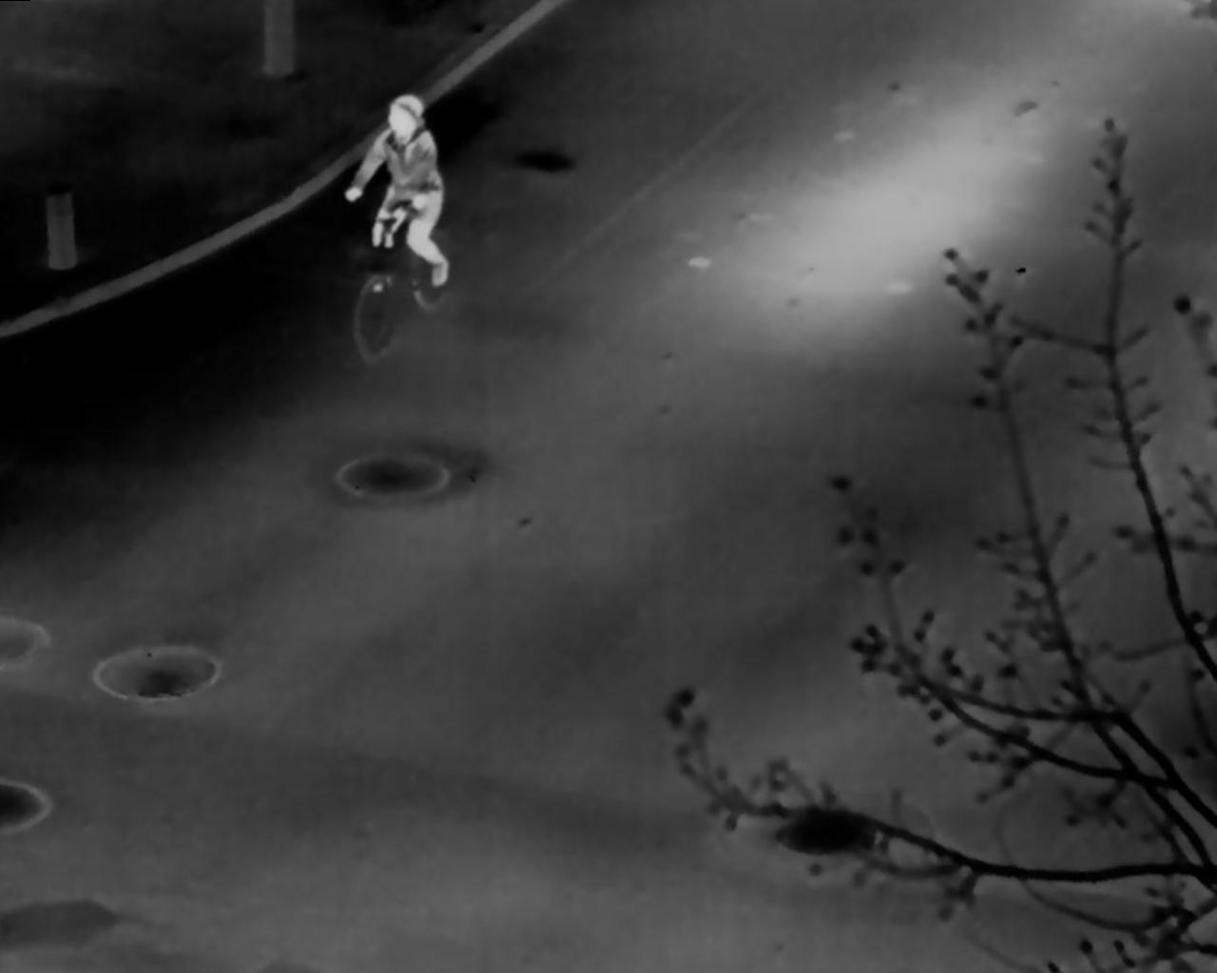person: (342, 93, 450, 288)
